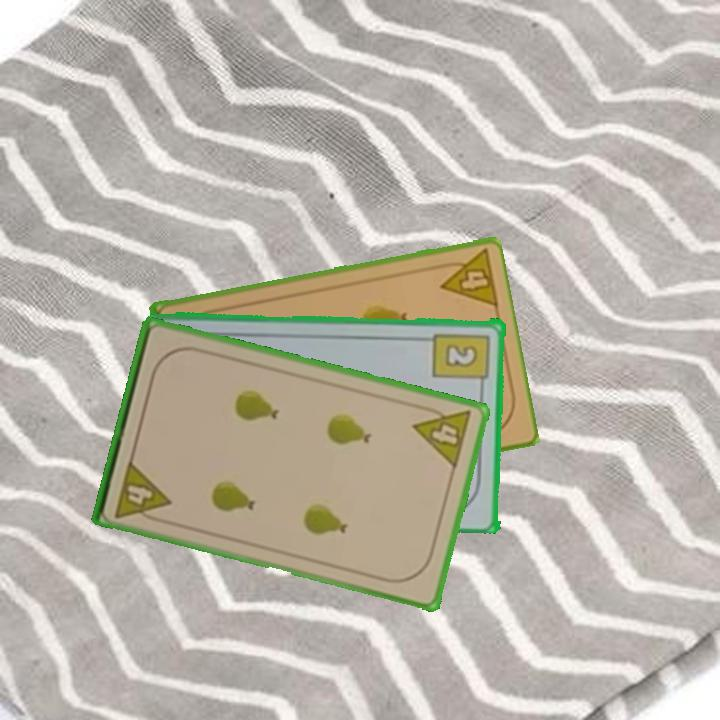2b: (431, 329, 493, 391)
4p: (410, 400, 475, 472), (431, 246, 501, 310), (111, 456, 173, 526)
